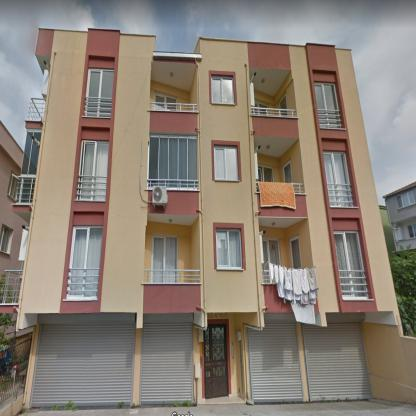door: (204, 324, 228, 398), (289, 235, 302, 268), (283, 160, 292, 182), (279, 92, 287, 108)
window: (66, 226, 102, 298), (148, 136, 197, 188), (334, 231, 368, 298), (76, 140, 108, 200), (324, 152, 354, 206), (84, 68, 113, 116), (314, 83, 341, 127), (152, 235, 177, 282), (216, 230, 242, 268), (22, 131, 42, 174), (262, 239, 280, 283), (214, 147, 237, 180), (212, 78, 234, 103), (154, 95, 176, 110), (397, 192, 414, 209), (1, 226, 12, 252), (258, 166, 274, 182), (8, 175, 18, 199), (407, 224, 415, 238), (256, 102, 268, 108)
